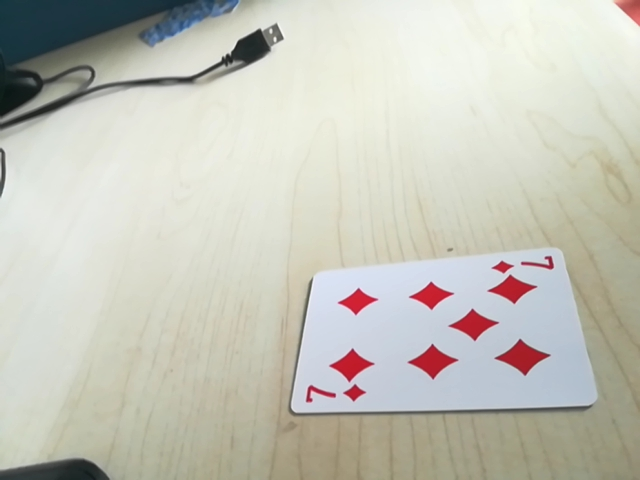fk 7: (488, 253, 559, 280), (299, 384, 368, 409)
